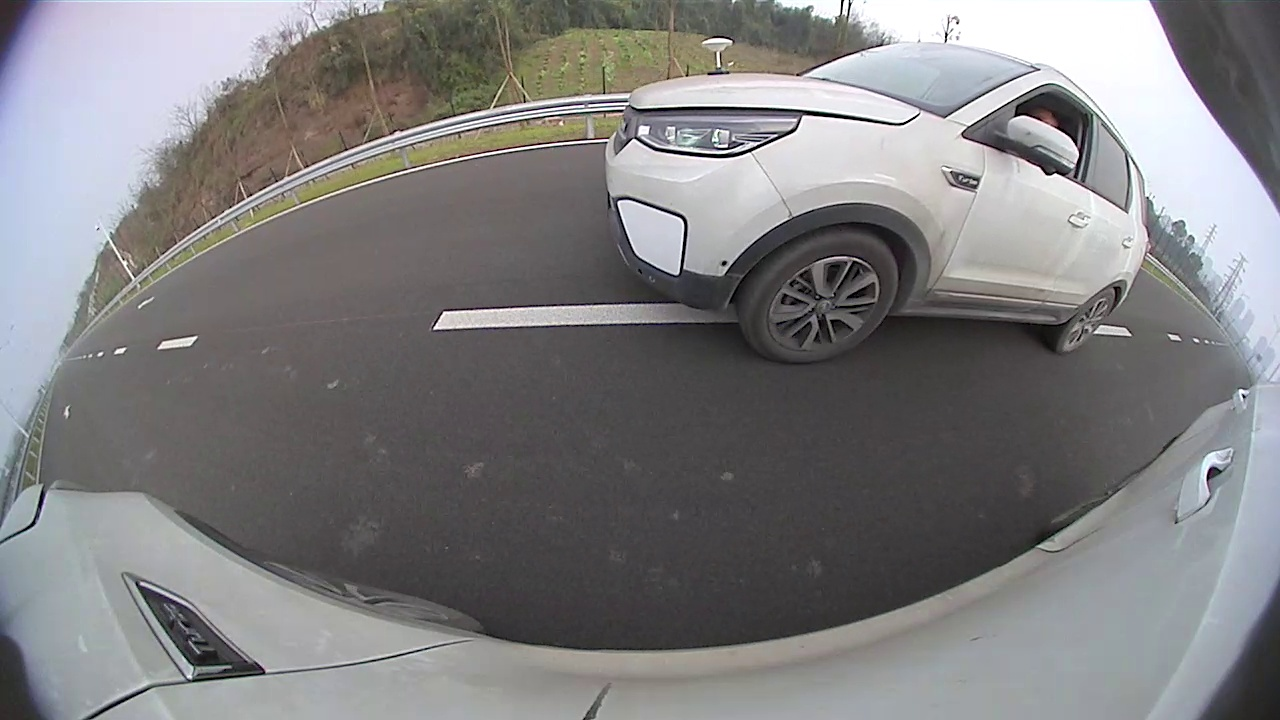car: (603, 36, 1152, 363)
front: (745, 233, 897, 361)
rear: (1057, 286, 1116, 357)
